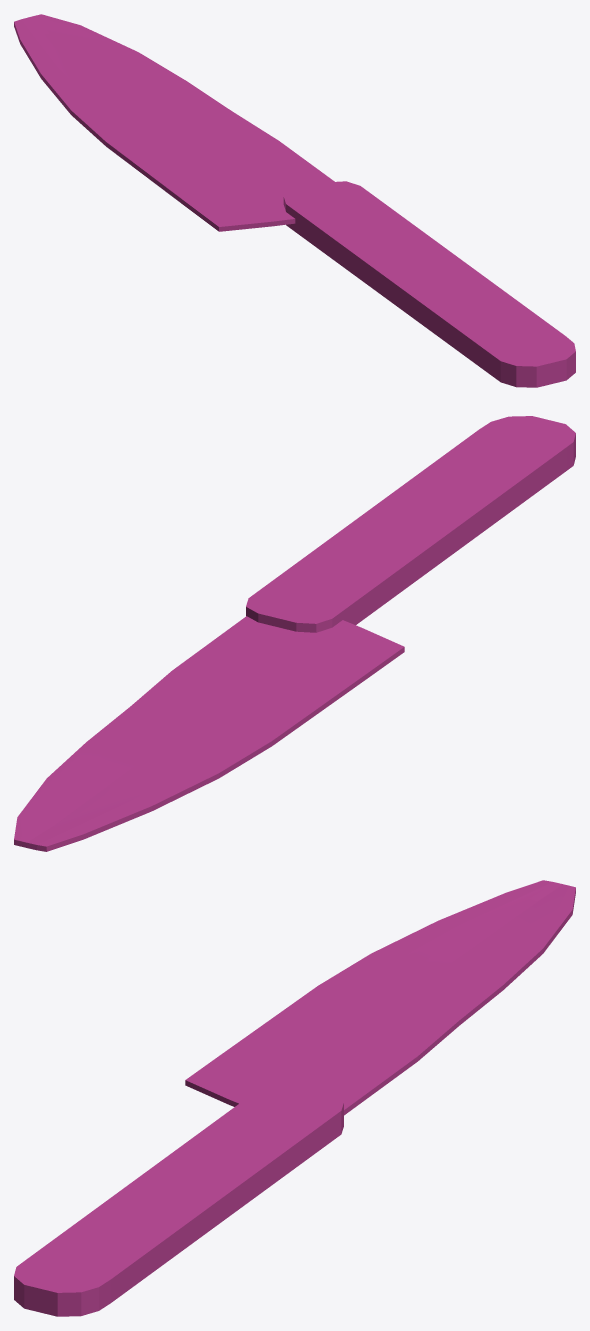
The model's file is Cuchillo_Grande.fbx.
3 views of the same model, one above another, from view 1: azimuth 30°, elevation 25°; view 2: azimuth 150°, elevation 25°; view 3: azimuth 330°, elevation 25° (orthographic). The views are drawn at different scales.
Visible parts, largest first — view 1: Filo, Cuchillo_Grande_PIVOT; view 2: Filo, Cuchillo_Grande_PIVOT; view 3: Filo, Cuchillo_Grande_PIVOT.
Part boxes in pixels (x1,y1,x2,y2): Filo: [14, 14, 334, 231]; Cuchillo_Grande_PIVOT: [283, 181, 575, 387]; Filo: [14, 616, 404, 851]; Cuchillo_Grande_PIVOT: [246, 416, 575, 632]; Filo: [185, 880, 575, 1115]; Cuchillo_Grande_PIVOT: [14, 1085, 343, 1316].
Bounding box in the file's own units: 4.61 × 0.6658 × 28.07.
